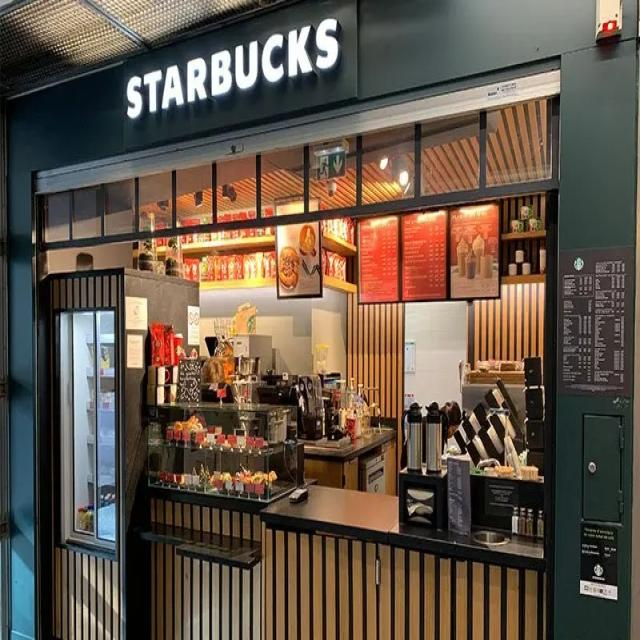starbucks: (120, 20, 351, 122)
